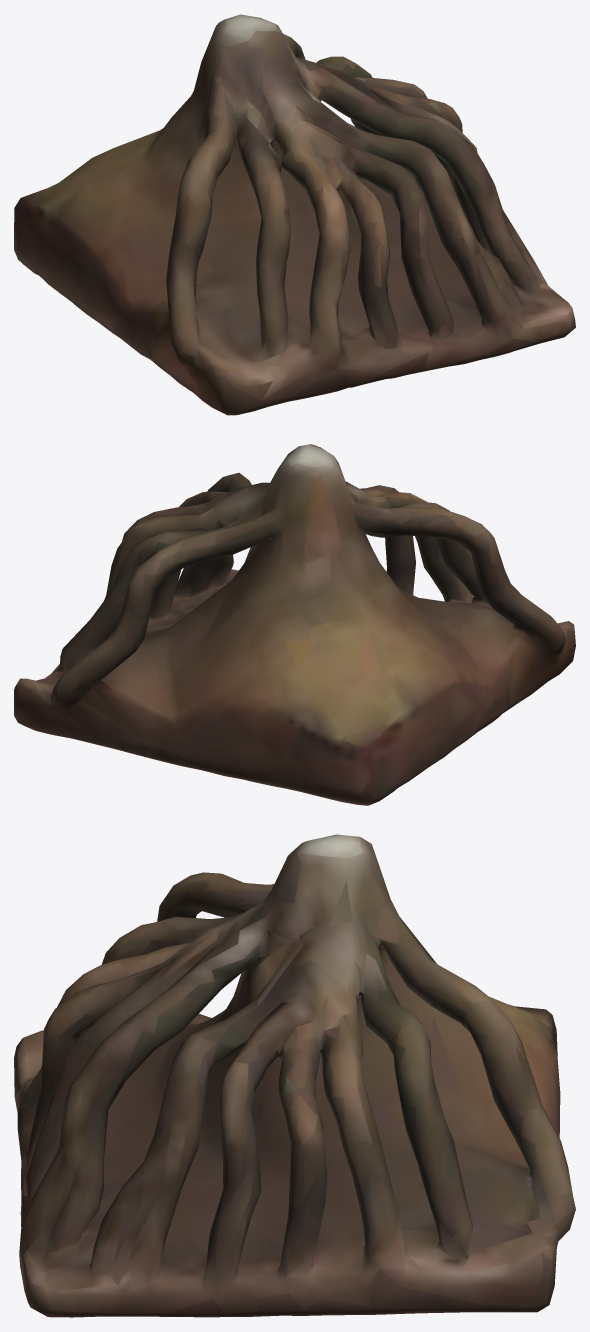
File: m08_raizes_terra.glb
3 renders of one model, top to bottom at view 1: azimuth 30°, elevation 25°; view 2: azimuth 150°, elevation 25°; view 3: azimuth 270°, elevation 25°, orthographic. The views are drawn at different scales.
Parts seen in each view (by area): view 1: m08_raizes_terra; view 2: m08_raizes_terra; view 3: m08_raizes_terra.
Boxes of the visible parts, x1,y1,x2,y2 form: m08_raizes_terra: (14,14,575,415); m08_raizes_terra: (14,444,575,805); m08_raizes_terra: (14,834,575,1317).
Bounding box in the file's own units: 0.9818 × 0.6745 × 0.9774.
Materials: 1 (1 with a texture image).
